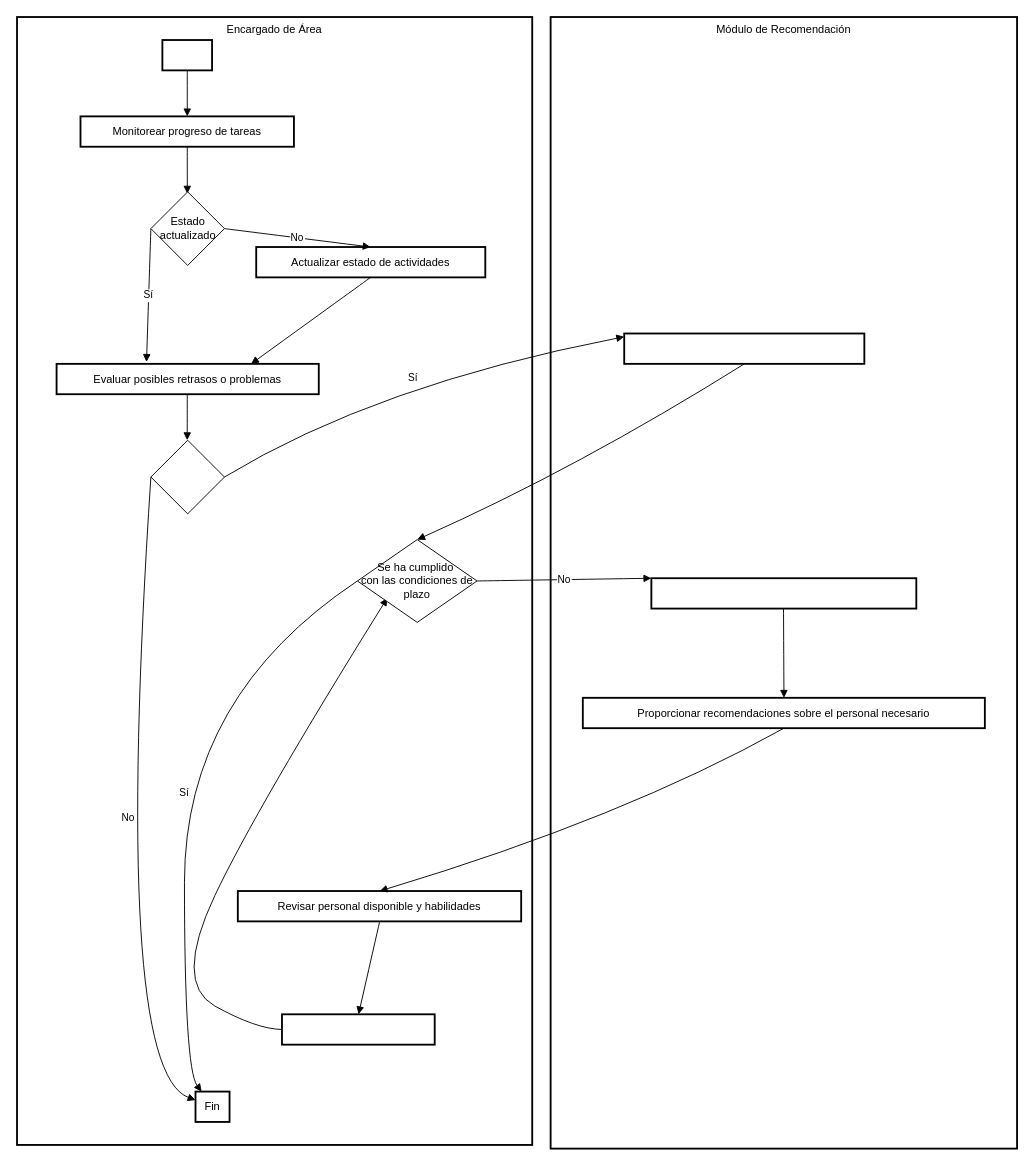
The diagram is 1033 pixels wide and 1165 high, and some of its shapes have lost their labels. Each missing label, with the centre of its shape:
"Asignar más personal" goes at [358,1029].
"Enviar notificación de advertencia" goes at [744,348].
"Enviar notificación de incumplimiento" goes at [783,593].
"Existen posibles retrasos" goes at [187,476].
"Inicio" goes at [187,55].
